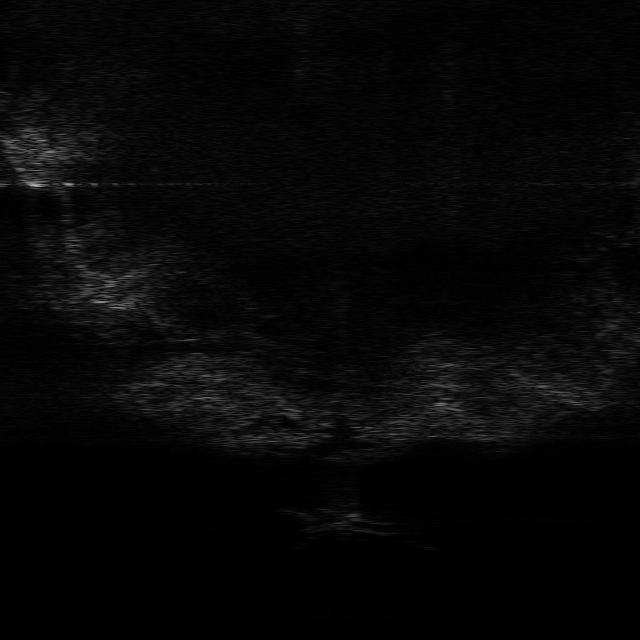plane: (285, 504, 397, 538)
